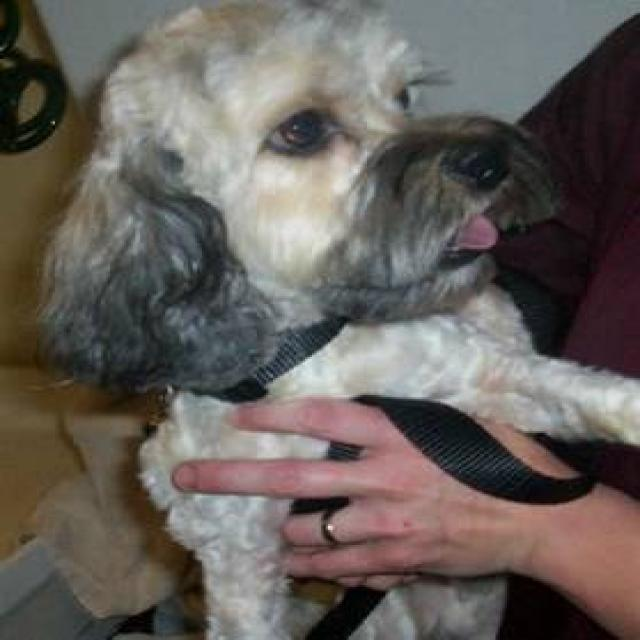Dog: (29, 2, 555, 366)
